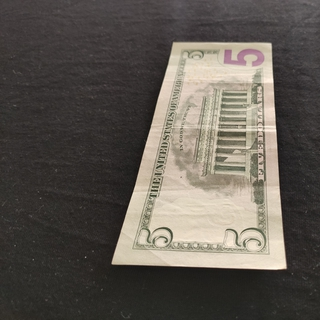5USDBack: (111, 39, 288, 271)
